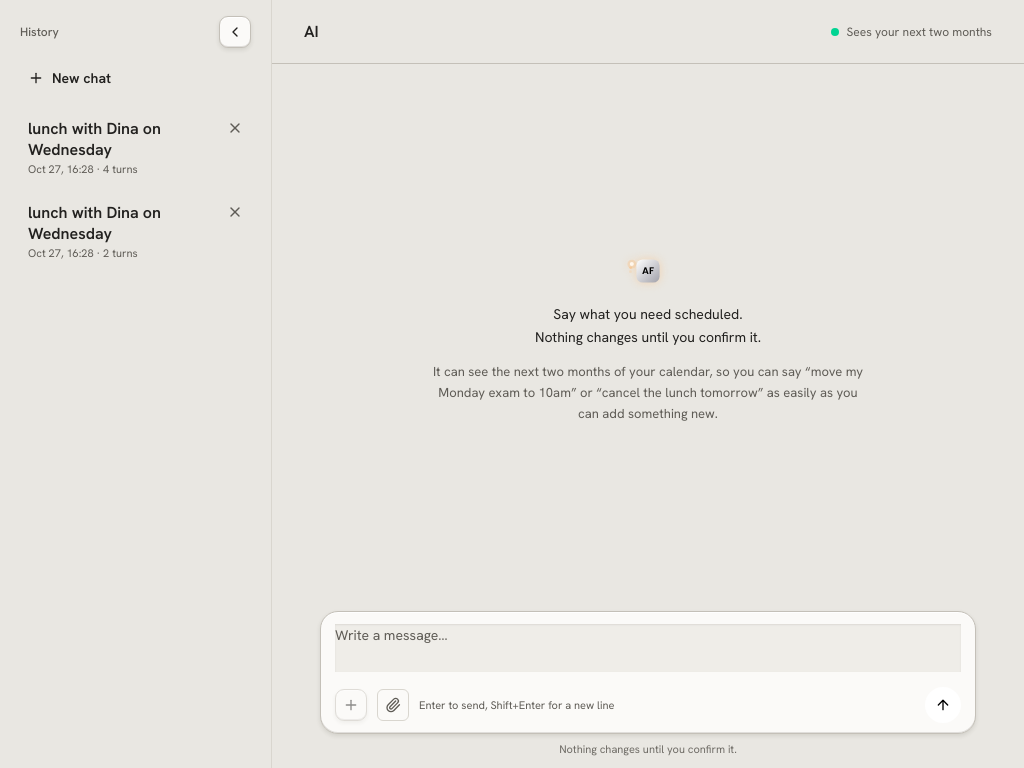
Test: screen › does not draw a deletion naming nothing real
Step 1. Click the text box with placeholder "Write a message…" → {"x": 648, "y": 648}, box top-left (335, 624), bottom-right (961, 672)
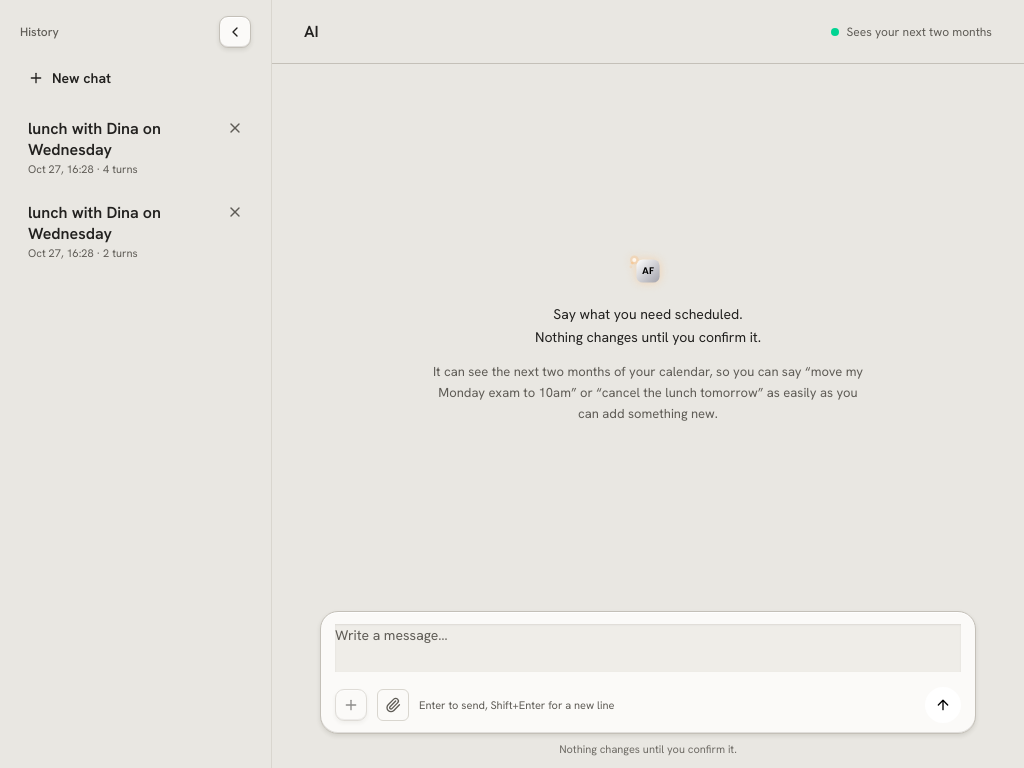
Step 2. Type keys "cancel something"
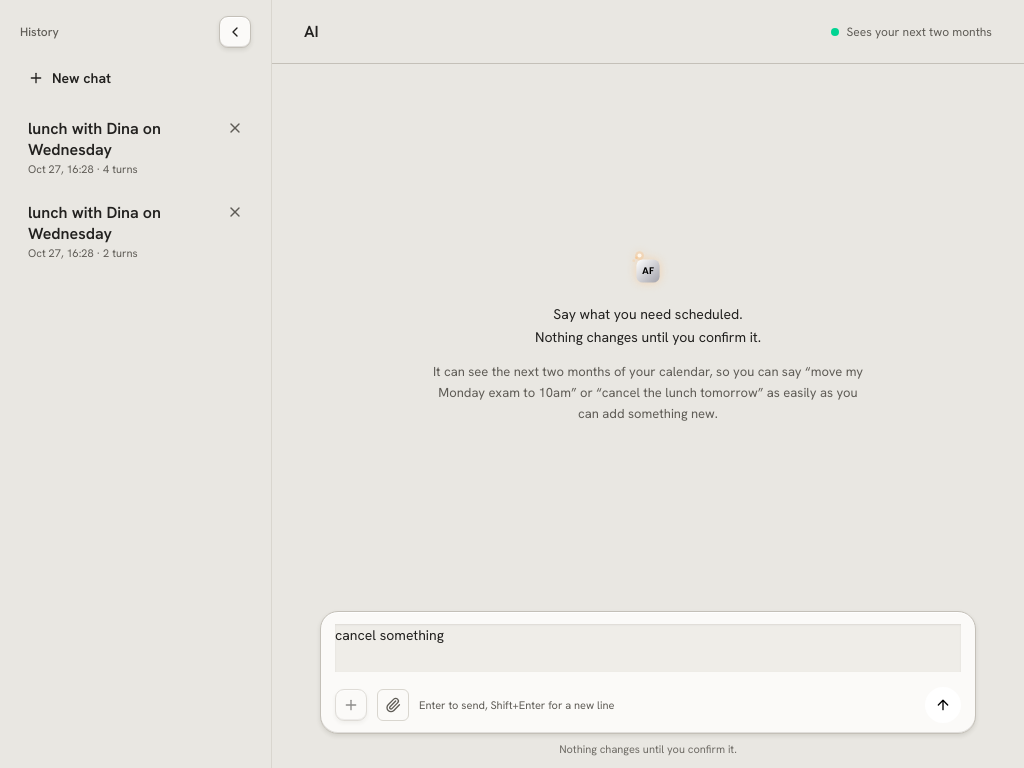
Step 3. Click the button named "Send" → {"x": 943, "y": 705}, box top-left (925, 687), bottom-right (961, 723)
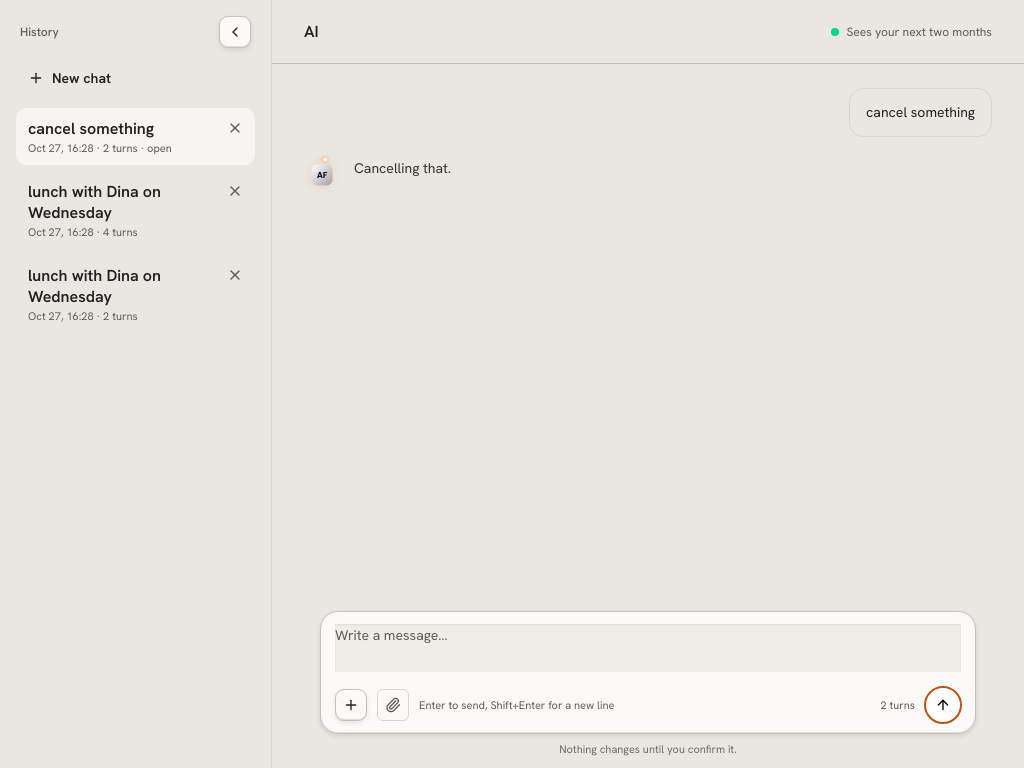
Now the text "Cancelling that." is shown, box top-left (354, 159), bottom-right (451, 177)
